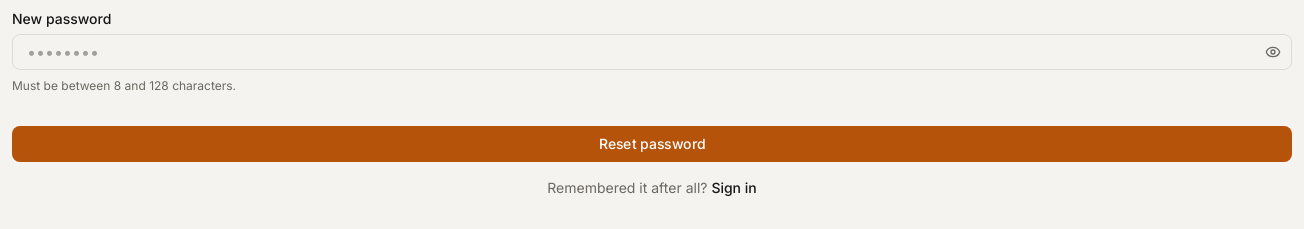
Scenario: ResetPasswordForm — isolated › shows generic error for other failures
Type "new-sup3r-pass" into the password field labelled "New password".
click(652, 52); type("new-sup3r-pass")  # box 13,35 -> 1291,69
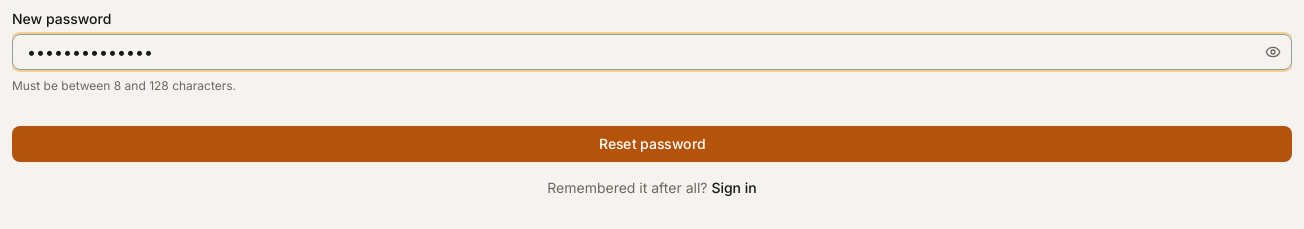
Click the button named "reset password".
click(652, 144)  # box 12,126 -> 1292,162
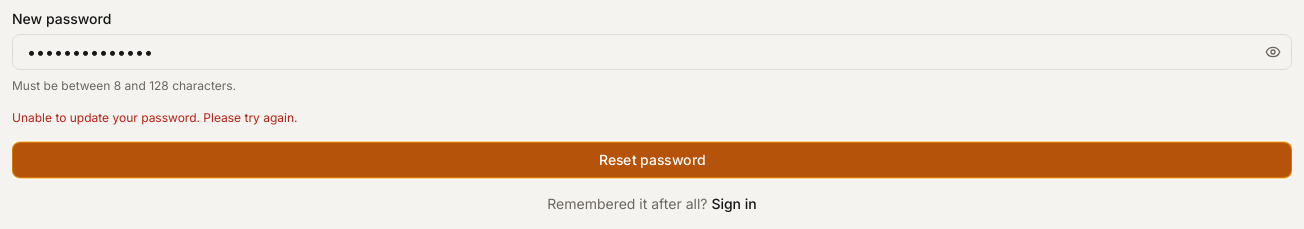
expect the text "Unable to update your password. Please try again." is shown: met, box 12,110 -> 298,125
